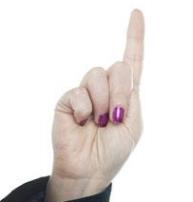up: (50, 7, 148, 180)
